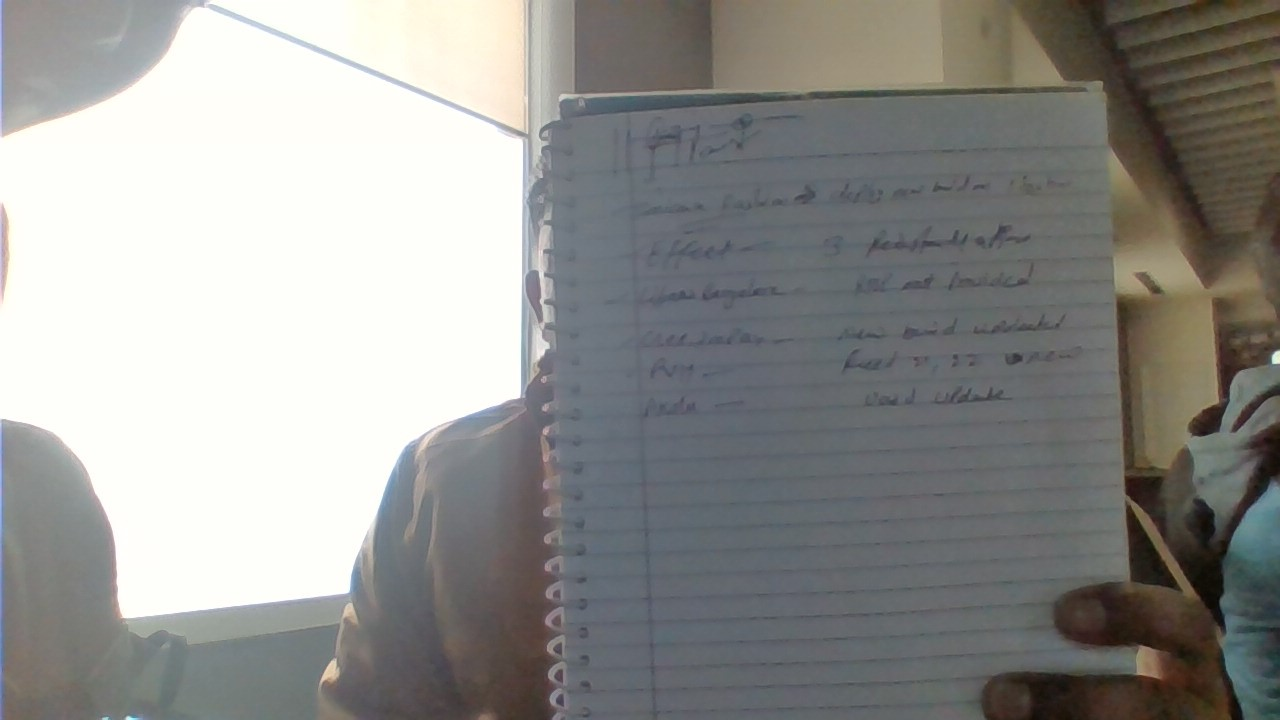partial: (535, 93, 1134, 720)
